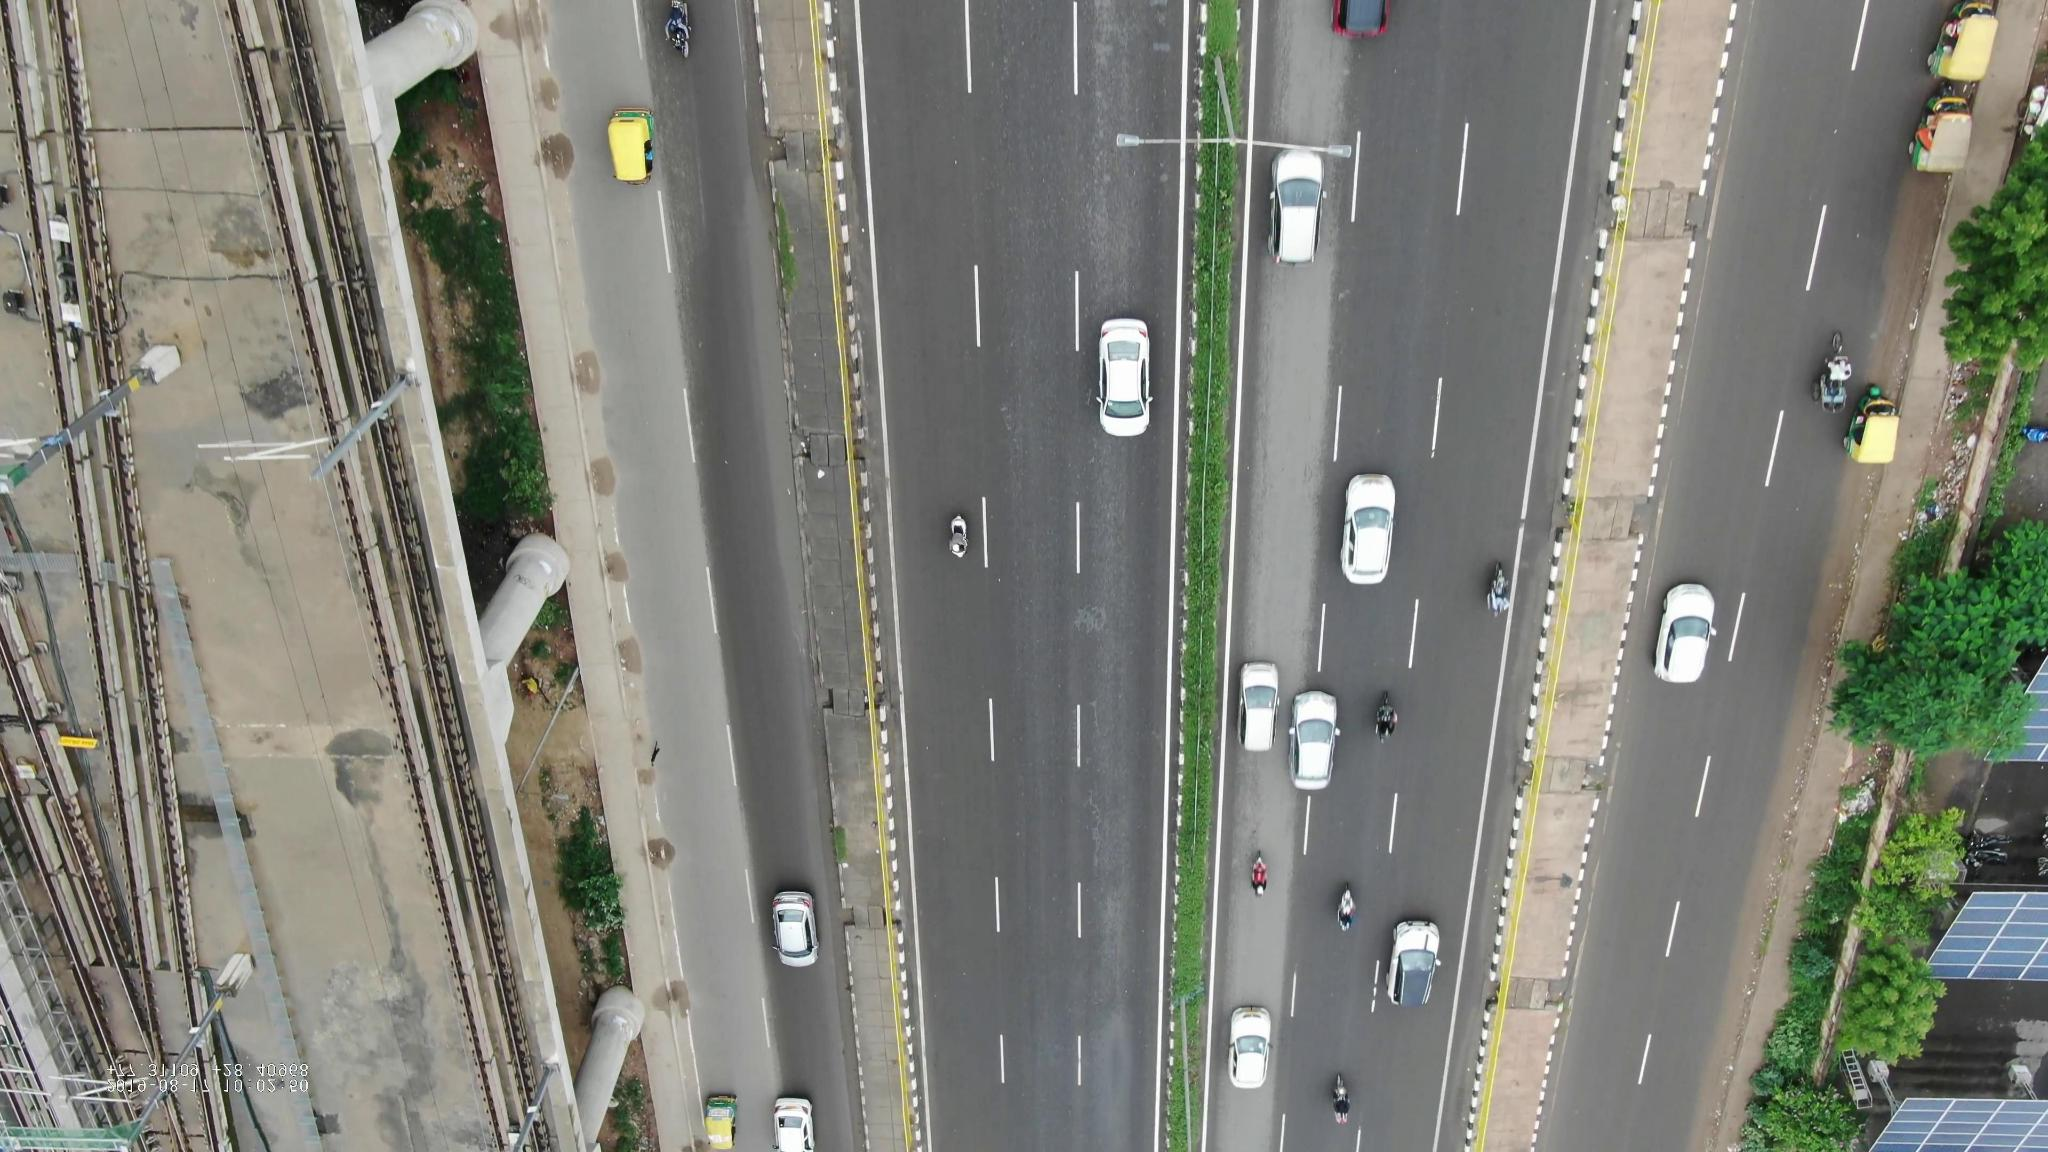Muddy_road: (1785, 549, 1852, 730), (1869, 193, 1935, 366), (1739, 812, 1798, 951)
